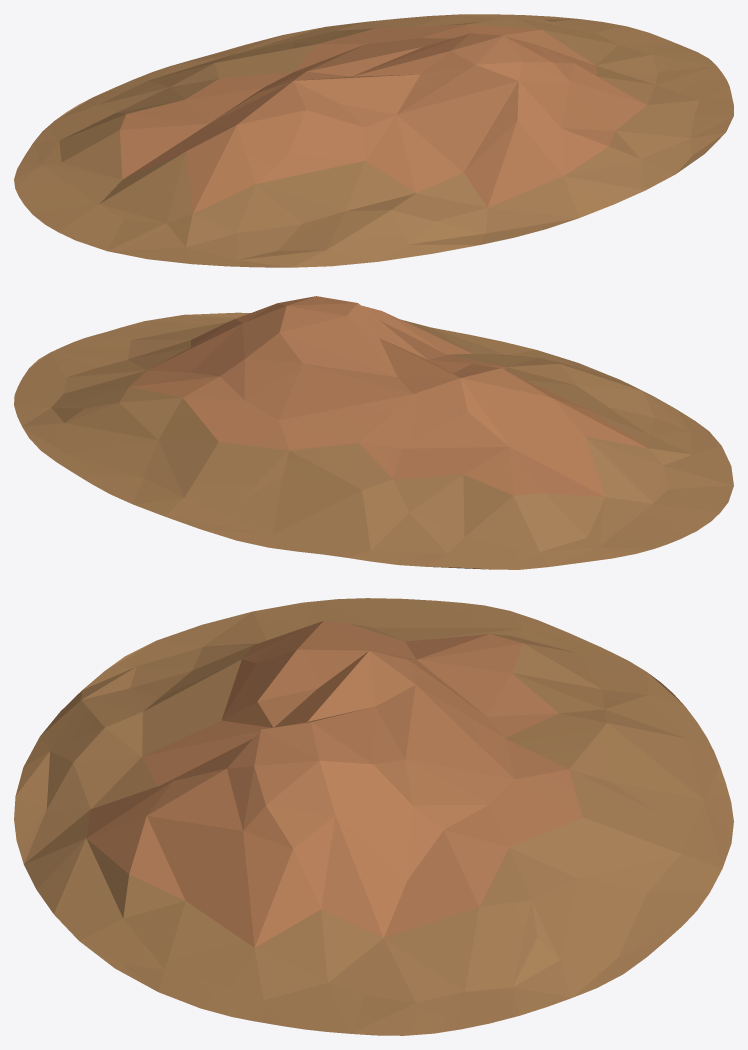
Rendered from SM_Land_04_A.glb.
3 renders of one model, top to bottom at view 1: azimuth 30°, elevation 25°; view 2: azimuth 150°, elevation 25°; view 3: azimuth 270°, elevation 25°, orthographic. The views are drawn at different scales.
Parts seen in each view (by area): view 1: SM_Land_04_A; view 2: SM_Land_04_A; view 3: SM_Land_04_A.
Part boxes in pixels (left/top/right/bottom): SM_Land_04_A: left=14, top=14, right=733, bottom=267; SM_Land_04_A: left=14, top=296, right=733, bottom=569; SM_Land_04_A: left=14, top=598, right=733, bottom=1035.
Bounding box in the file's own units: 9.59 × 1.34 × 6.65.
Materials: 1 (1 with a texture image).
